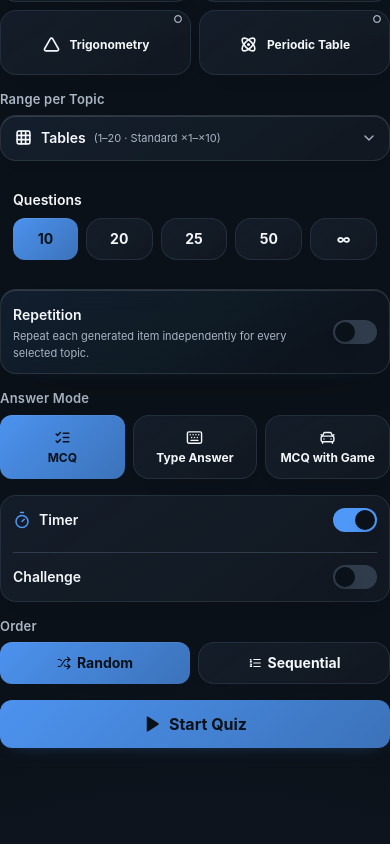
Test: Quiz Arena MCQ with Game mode › launches Jump Adventure only after the selected-game Start Quiz action
The width and height of the screenshot is (390, 844).
(page scrolled)
Click the button "MCQ with Game": (328, 447) [265,415,389,479]
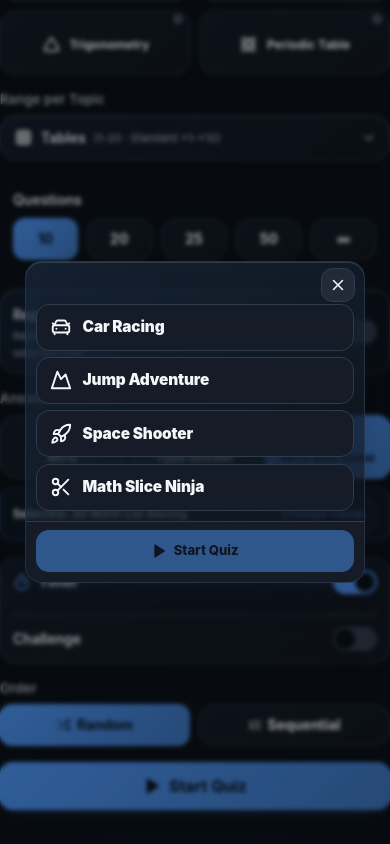
Now the element with test id "mcq-game-selector" is shown
Now the dialog named "Choose Your Game" is shown, box [25,261,365,583]
Click the button "Jump Adventure": (195, 380) [36,357,354,404]
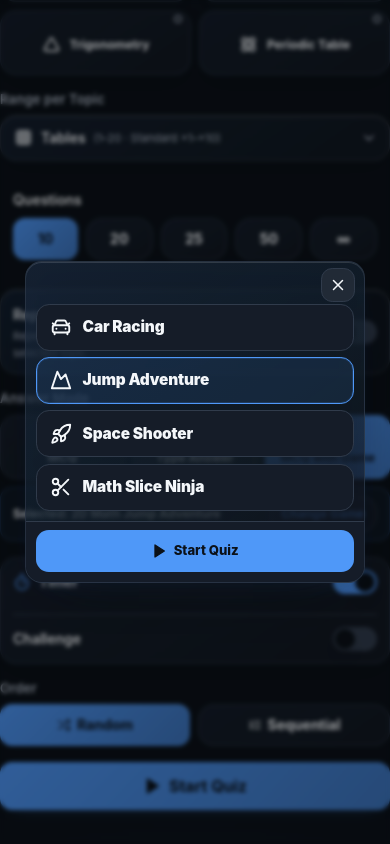
Now the element with test id "mcq-game-selector" is shown
Click the button with test id "start-selected-game": (195, 551) [36,530,354,572]
(page scrolled)
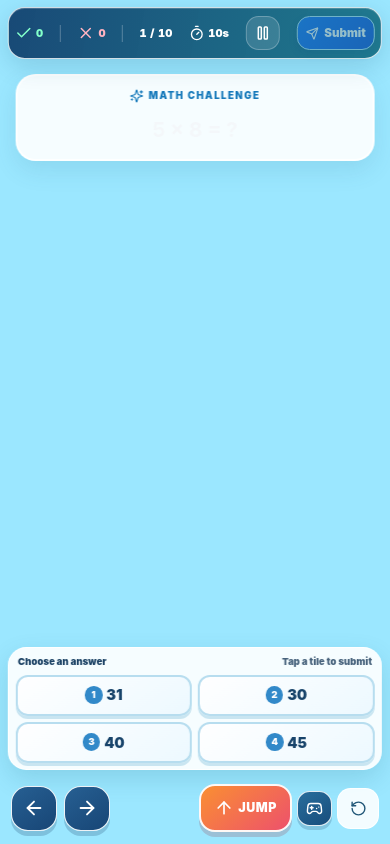
Now the element with test id "mcq-game-selector" is gone
Now the element with test id "mcq-jump-fullscreen" is shown
Now the element named "Choose your answer" is shown, box [8,647,382,770]
